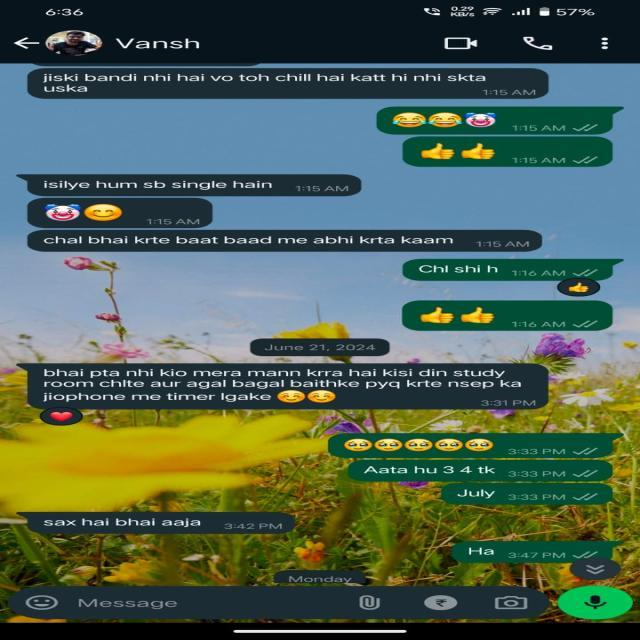scam: (28, 364, 555, 411), (25, 67, 552, 100), (27, 230, 545, 251), (21, 174, 364, 196), (25, 513, 303, 536), (25, 198, 212, 228)
